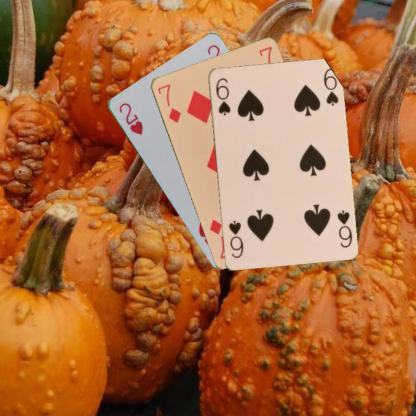2h: (115, 100, 144, 136)
6s: (212, 75, 232, 117), (334, 207, 353, 249)
7d: (154, 81, 182, 124)
